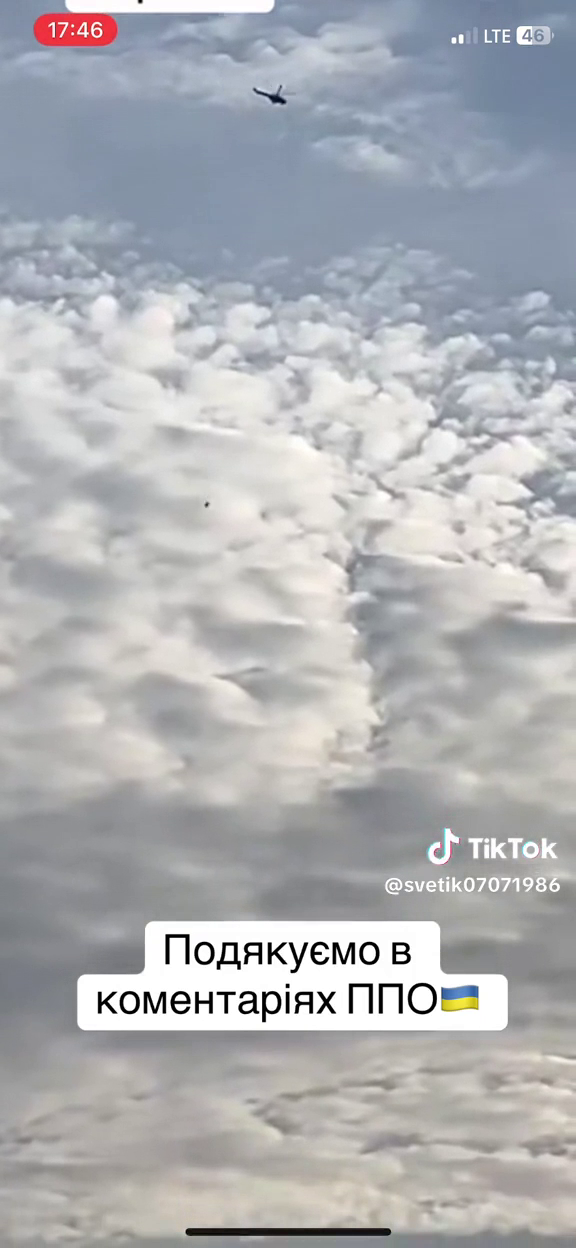not_drone: (253, 84, 286, 105)
